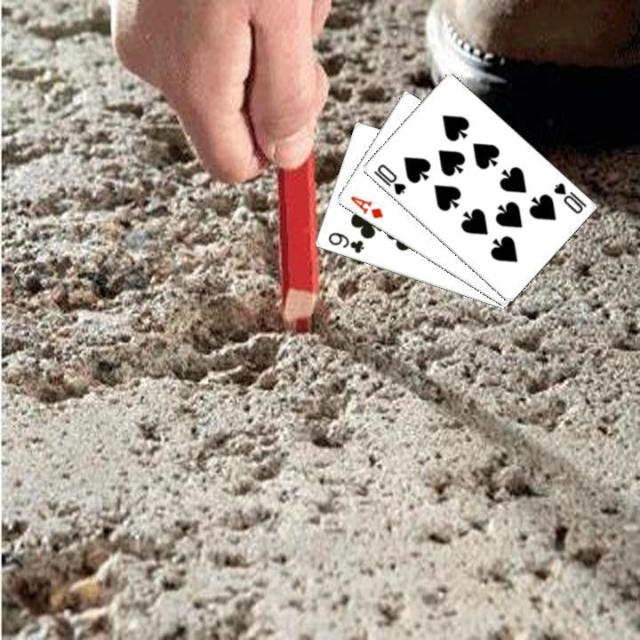10S: (550, 179, 588, 216), (369, 160, 407, 196)
9C: (324, 229, 366, 255)
AD: (346, 192, 385, 220)
